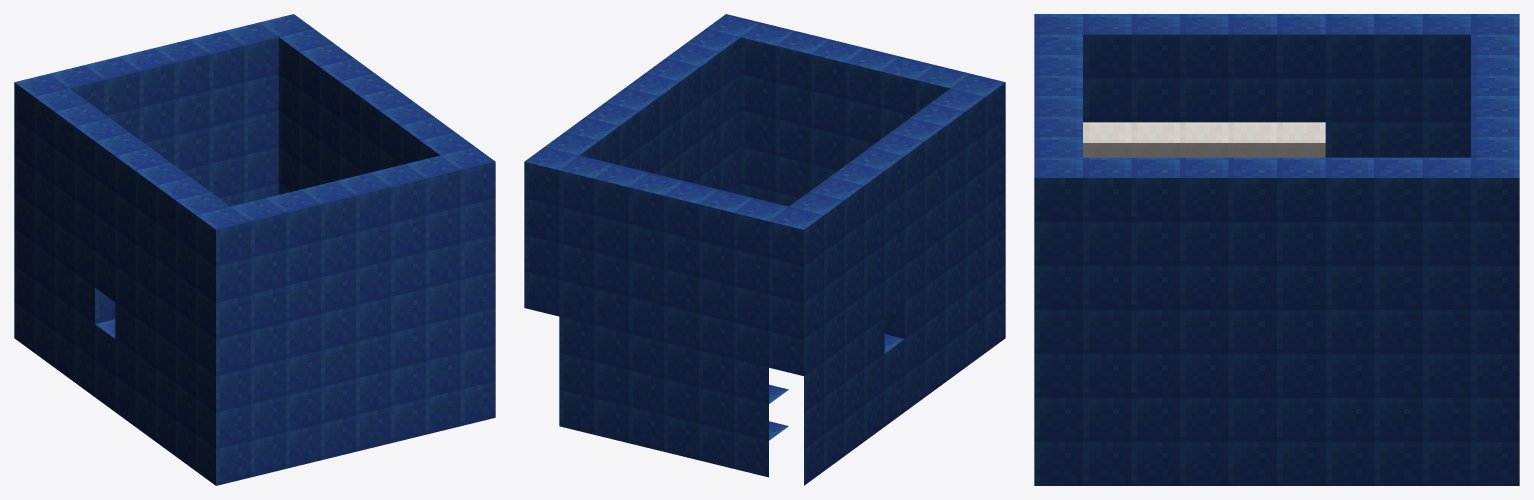
Rendered from Maquete_Kauã Dias Ramos.glb.
3 views of the same model, side by side, from view 1: azimuth 30°, elevation 25°; view 2: azimuth 150°, elevation 25°; view 3: azimuth 270°, elevation 25° (orthographic). The views are drawn at different scales.
Parts seen in each view (by area): view 1: node_2; view 2: node_2; view 3: node_2.
Boxes of the visible parts, <box> form: node_2: <box>14,14,495,485</box>; node_2: <box>524,14,1005,485</box>; node_2: <box>1034,14,1519,485</box>.
Bounding box in the file's own units: 8 × 7 × 10.
Materials: 2 (2 with a texture image).
